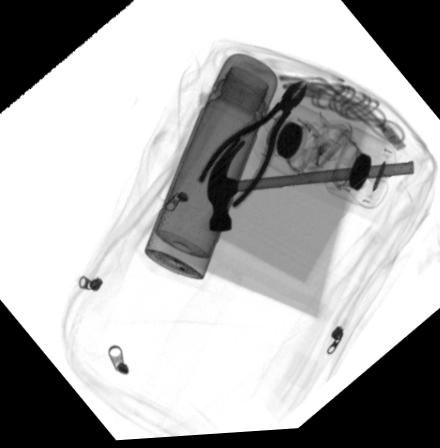Hammer: (207, 139, 413, 234)
Pliers: (197, 85, 306, 210)
